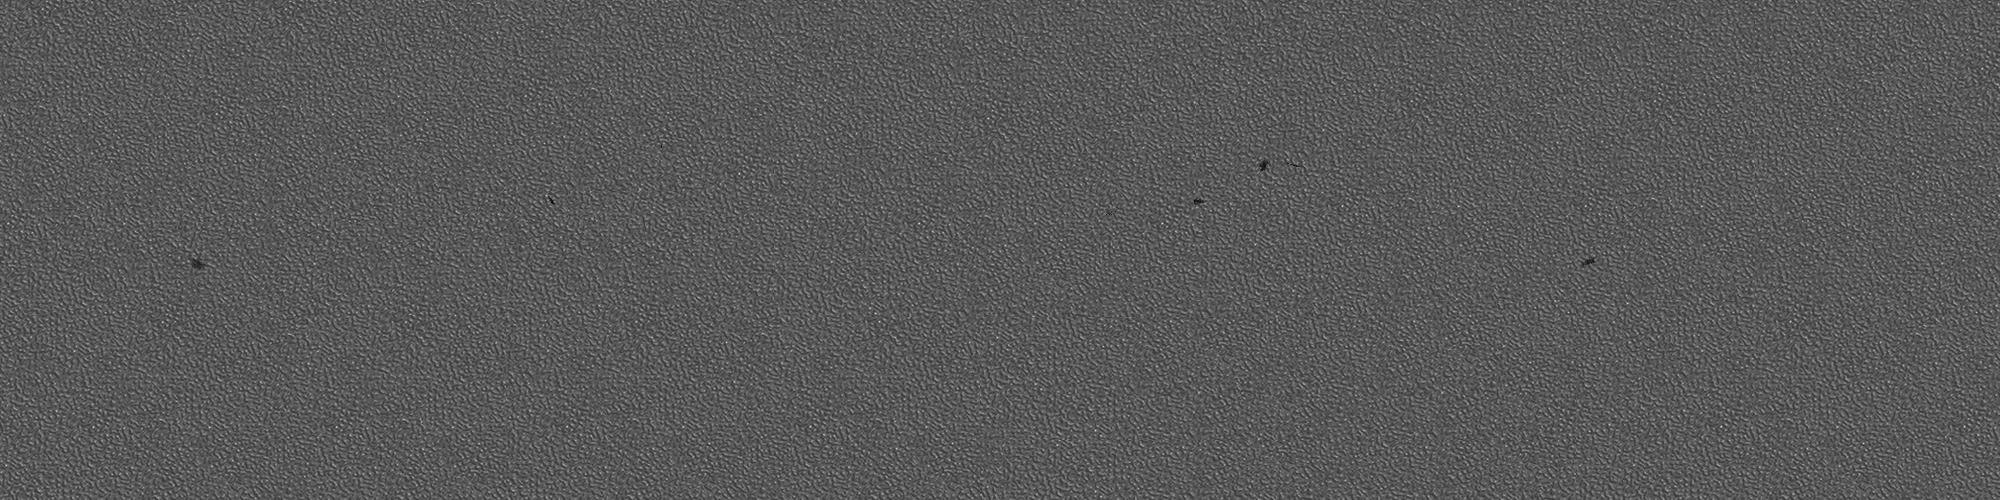Decomposed: (184, 253, 216, 278), (1578, 253, 1599, 274), (1254, 152, 1270, 179), (1185, 193, 1210, 205), (545, 190, 557, 208)
